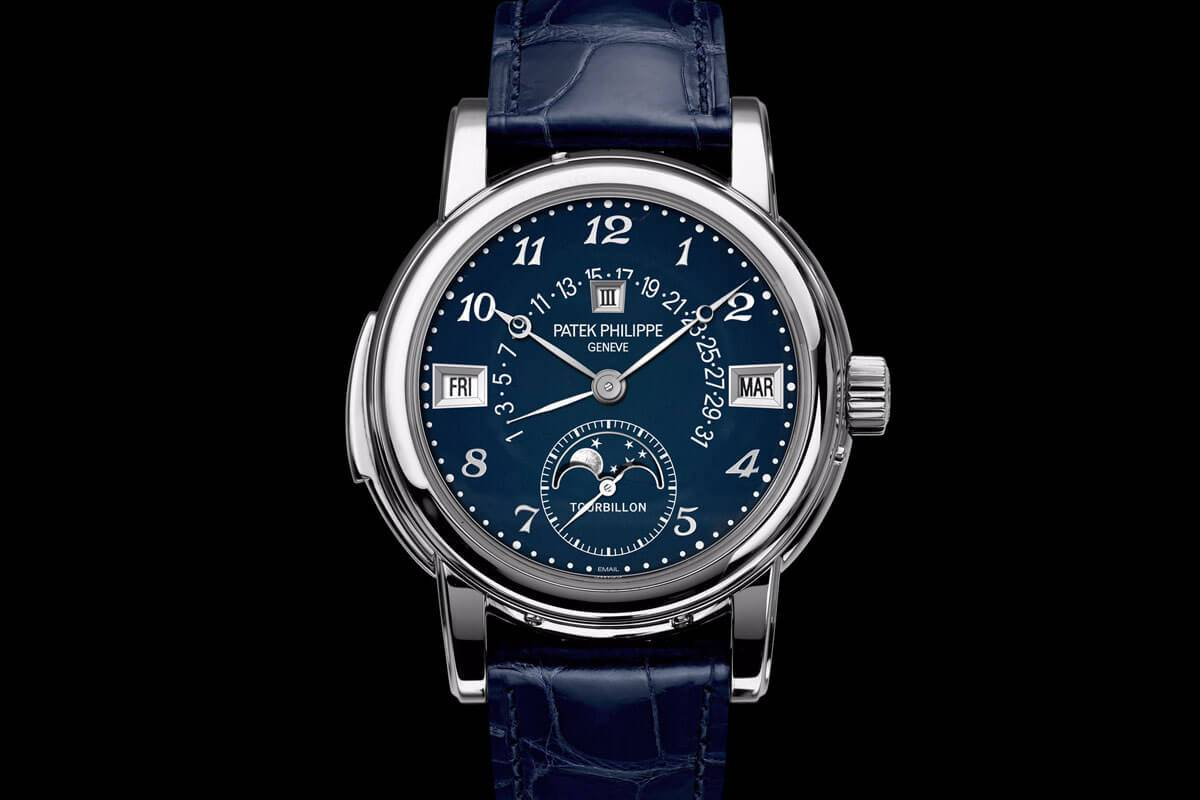clock: (418, 195, 804, 584)
